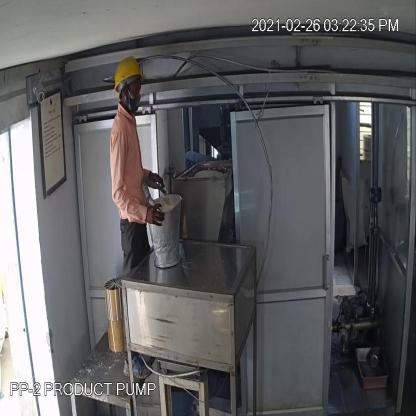helmet: (111, 54, 150, 90)
